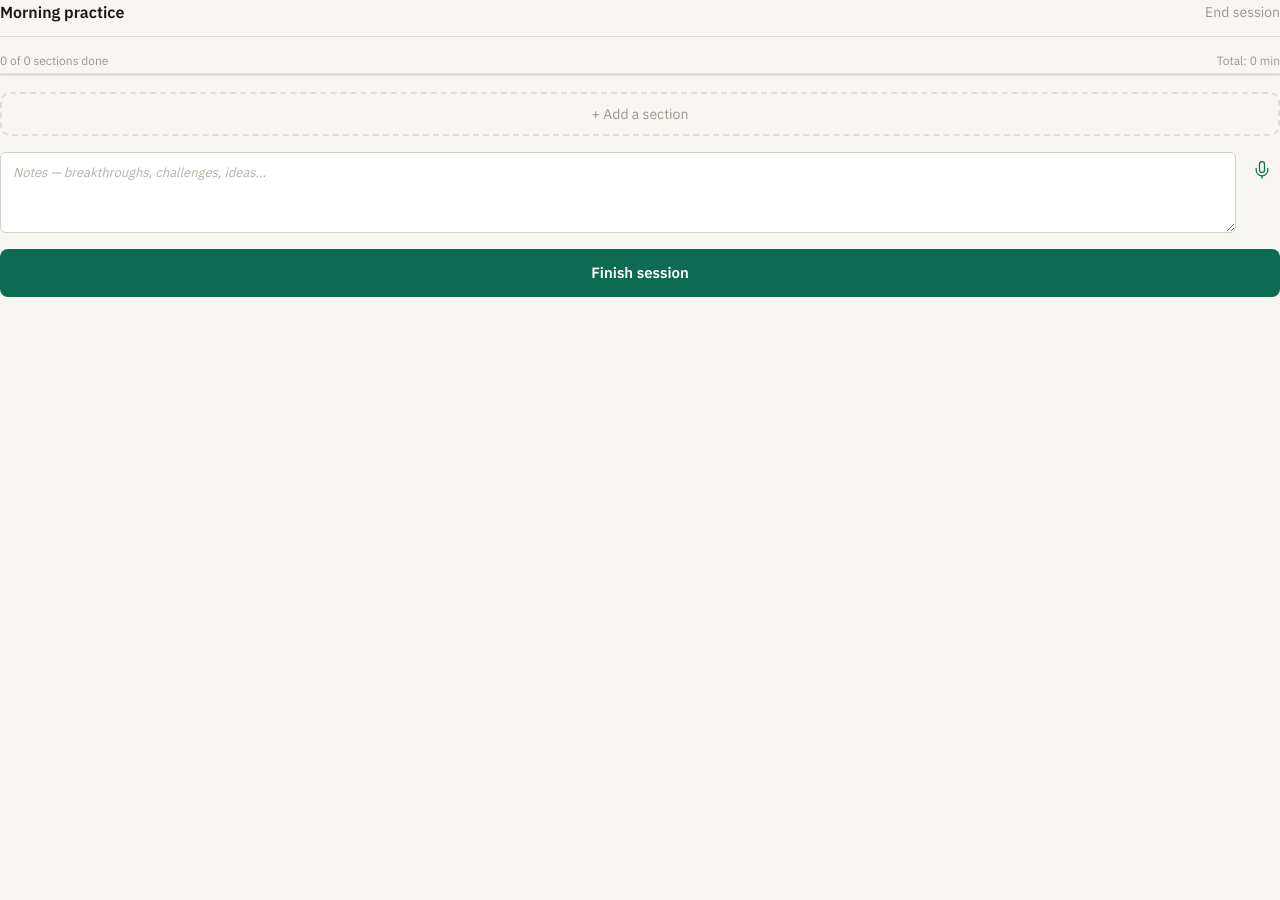
Test: ActiveSessionPage — End session › dismisses without abandoning when the user keeps going
Expected: the heading "Morning practice" is shown, [0,2,124,22]
Click the button "End session" at [1243, 12], box [1205,2,1279,22]
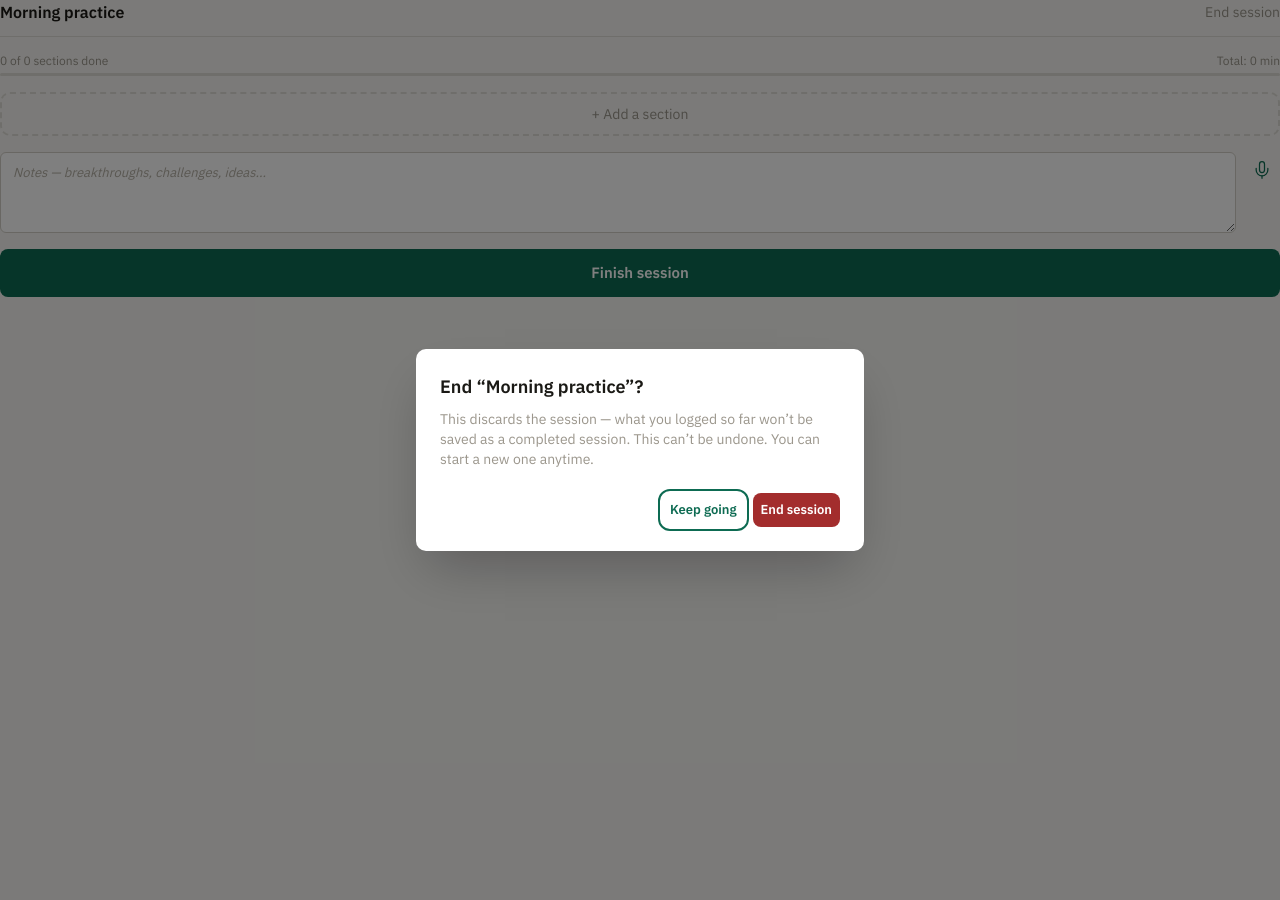
Result: the dialog is shown at [416,349,864,551]
Click the button "Keep going" at [703, 510], box [662,493,744,527]
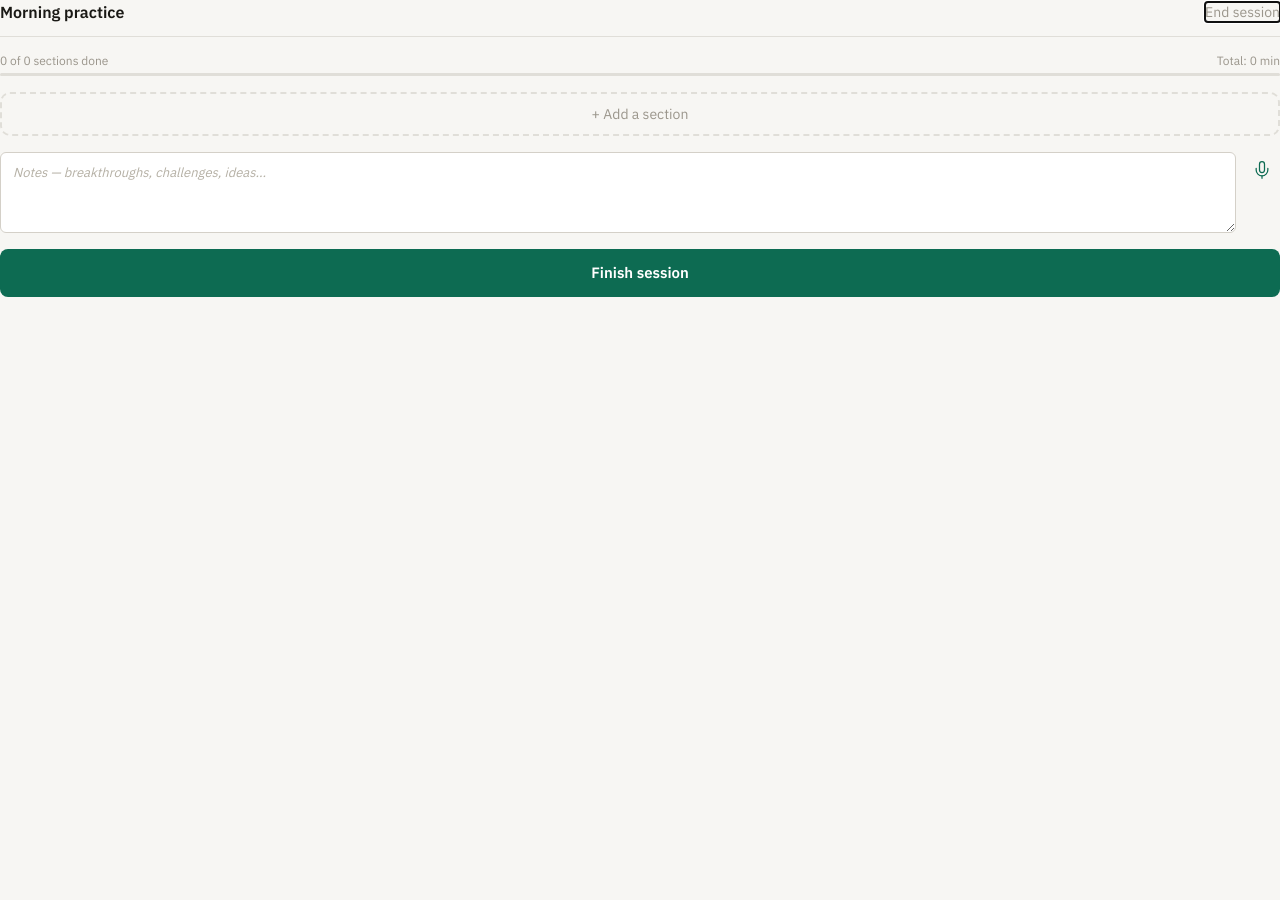
Result: the dialog is gone
